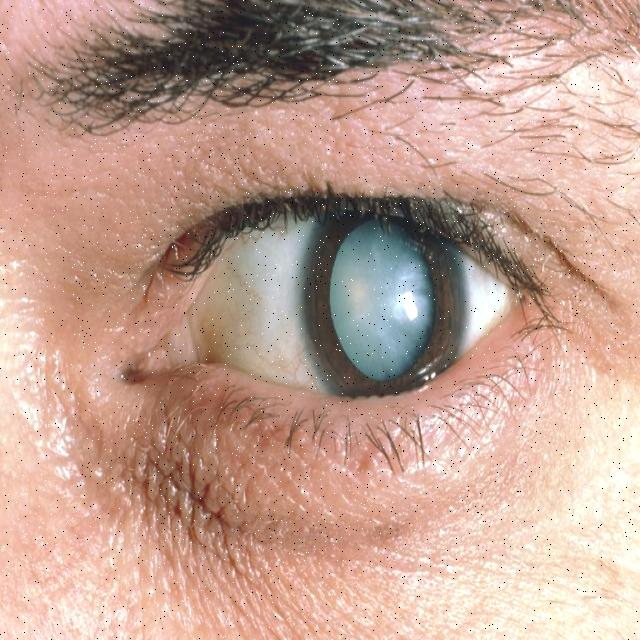Cataract: (215, 143, 524, 470)
